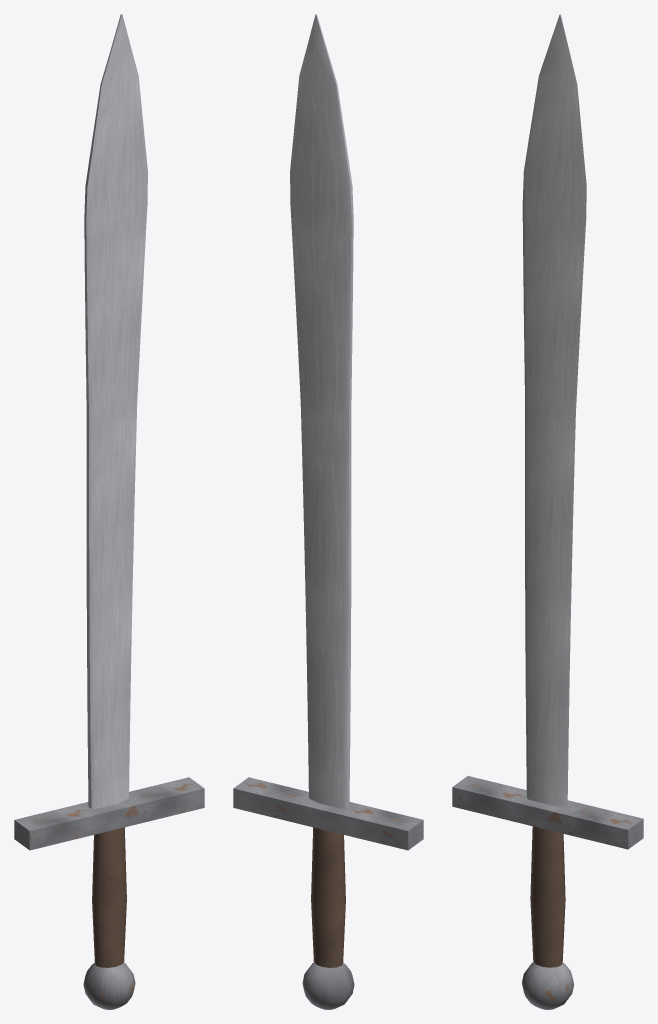
Rendered from falchion.glb.
3 renders of one model, left to right at view 1: azimuth 30°, elevation 25°; view 2: azimuth 150°, elevation 25°; view 3: azimuth 330°, elevation 25°, orthographic.
Parts seen in each view (by area): view 1: OUT; view 2: OUT; view 3: OUT.
Part boxes in pixels (bbox=[...]): OUT: bbox=[14, 14, 204, 1009]; OUT: bbox=[233, 14, 423, 1009]; OUT: bbox=[452, 14, 643, 1009].
Bounding box in the file's own units: 0.17 × 0.92 × 0.0429.
3 materials, 3 textured.
